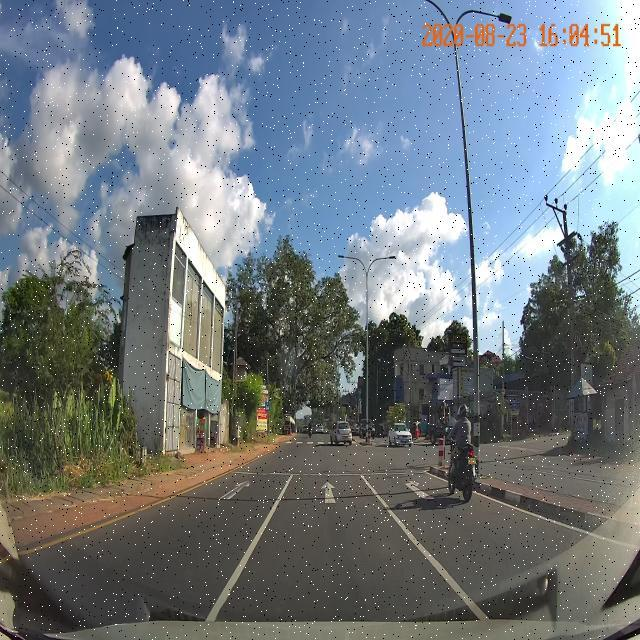forward: (269, 472, 389, 508)
